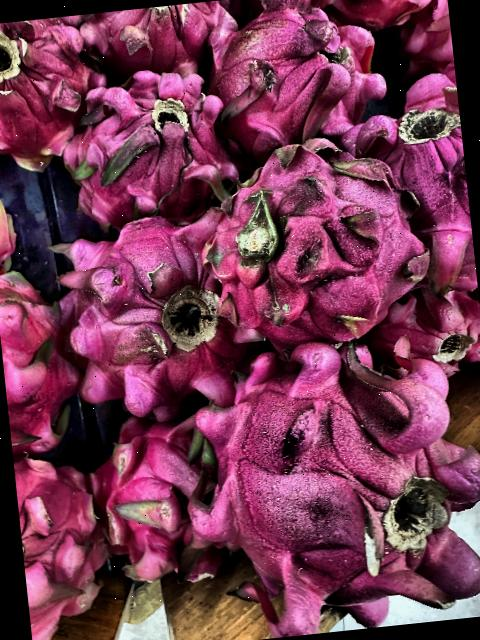buah-naga-matang: (188, 316, 480, 640), (38, 192, 264, 422), (211, 142, 431, 352), (204, 0, 395, 159), (83, 412, 242, 594), (62, 74, 233, 222), (364, 69, 478, 290), (12, 442, 118, 640), (0, 251, 88, 471), (0, 14, 107, 175), (85, 0, 236, 84)
